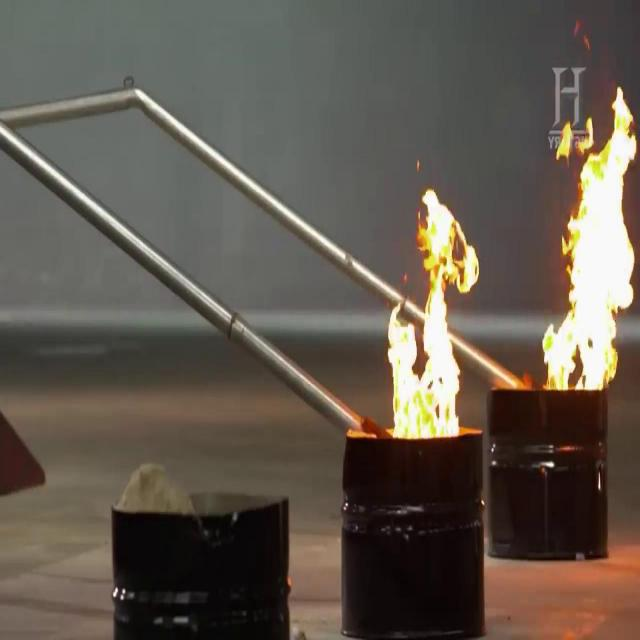fire: (541, 81, 637, 394), (379, 191, 478, 439)
